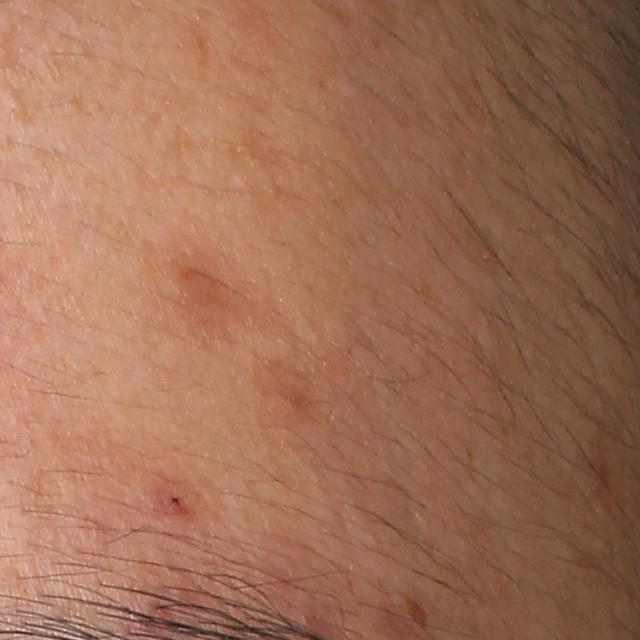comedo: (1, 91, 26, 116)
melasma: (405, 596, 430, 634)
papule: (160, 482, 196, 520)
